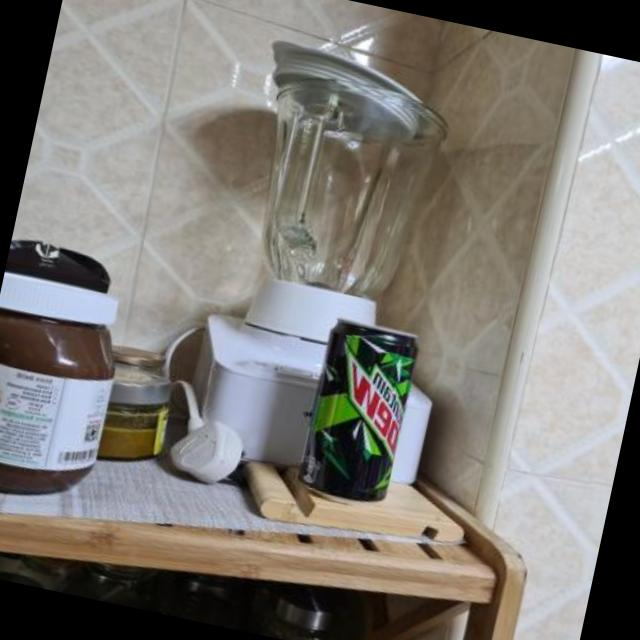metal: (303, 321, 417, 499)
